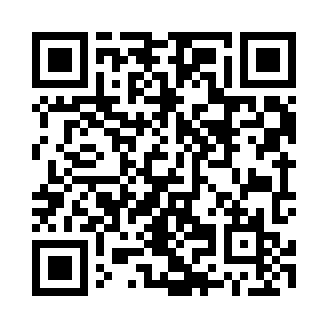QR_CODE: (23, 23, 305, 303)
